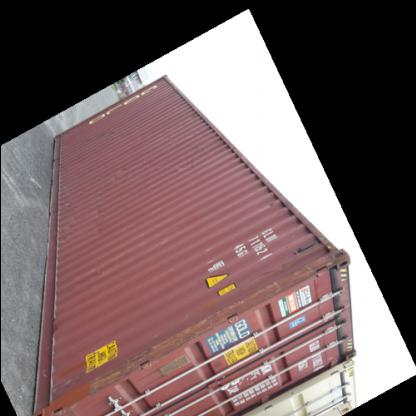Damage: (86, 340, 218, 388), (172, 282, 266, 342), (265, 246, 352, 302)
